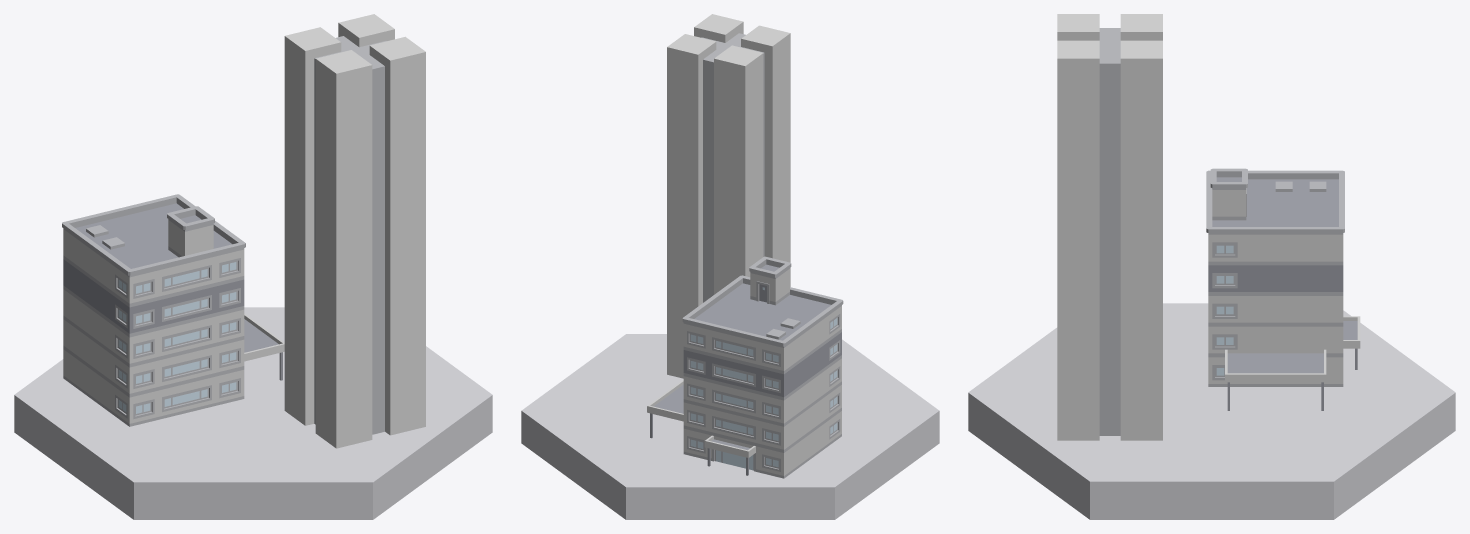
File: 2_buildings_1_low.fbx
3 renders of one model, left to right at view 1: azimuth 30°, elevation 25°; view 2: azimuth 150°, elevation 25°; view 3: azimuth 270°, elevation 25°, orthographic. The views are drawn at different scales.
Visible parts, largest first — view 1: low_buildingE.001, pavement_low.009, large_buildingG.001; view 2: pavement_low.009, low_buildingE.001, large_buildingG.001; view 3: pavement_low.009, low_buildingE.001, large_buildingG.001.
Part boxes in pixels (x1,y1,x2,y2): low_buildingE.001: (284, 14, 425, 448); pavement_low.009: (14, 307, 492, 519); large_buildingG.001: (62, 194, 284, 426); pavement_low.009: (521, 334, 939, 519); low_buildingE.001: (667, 14, 790, 378); large_buildingG.001: (647, 256, 843, 478); pavement_low.009: (968, 303, 1455, 519); low_buildingE.001: (1057, 14, 1162, 440); large_buildingG.001: (1206, 168, 1360, 410).
Size of the model in its own units: 100 by 110 by 115.
